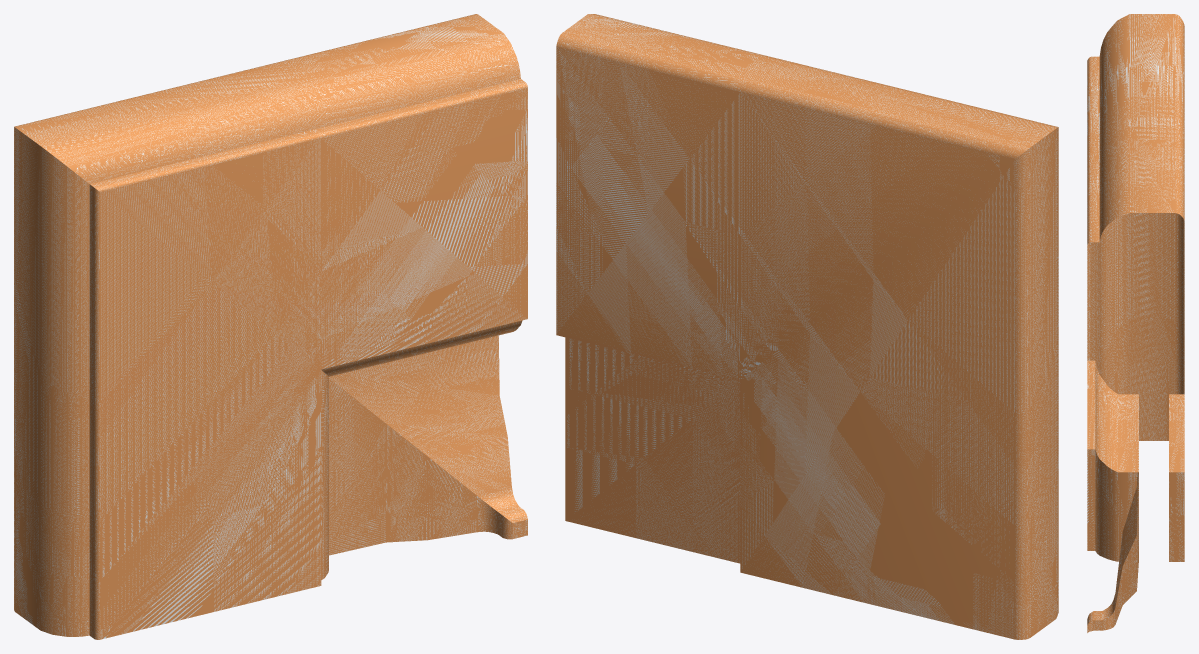
The model's file is original-38.obj.
The picture shows the model from 3 angles, left to right: view 1: azimuth 30°, elevation 25°; view 2: azimuth 150°, elevation 25°; view 3: azimuth 270°, elevation 25°; orthographic projection. The views are drawn at different scales.
Visible parts, largest first — view 1: LT_11_TL1/LT_11_TL/mesh29/mesh29-geometry#mesh29-geometry; view 2: LT_11_TL1/LT_11_TL/mesh29/mesh29-geometry#mesh29-geometry; view 3: LT_11_TL1/LT_11_TL/mesh29/mesh29-geometry#mesh29-geometry.
Part boxes in pixels (<box>): LT_11_TL1/LT_11_TL/mesh29/mesh29-geometry#mesh29-geometry: <box>14,14,527,639</box>; LT_11_TL1/LT_11_TL/mesh29/mesh29-geometry#mesh29-geometry: <box>556,14,1058,639</box>; LT_11_TL1/LT_11_TL/mesh29/mesh29-geometry#mesh29-geometry: <box>1087,14,1184,632</box>.
Bounding box in the file's own units: 0.1375 × 0.1375 × 0.0285.
